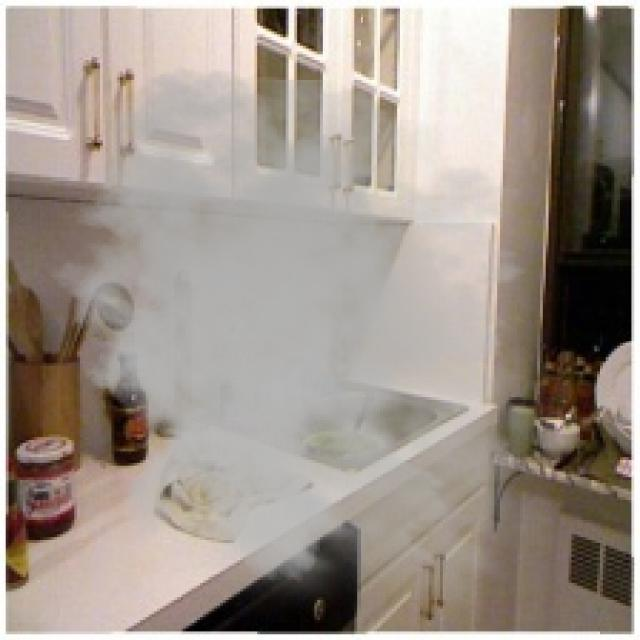smoke: (34, 66, 589, 634)
